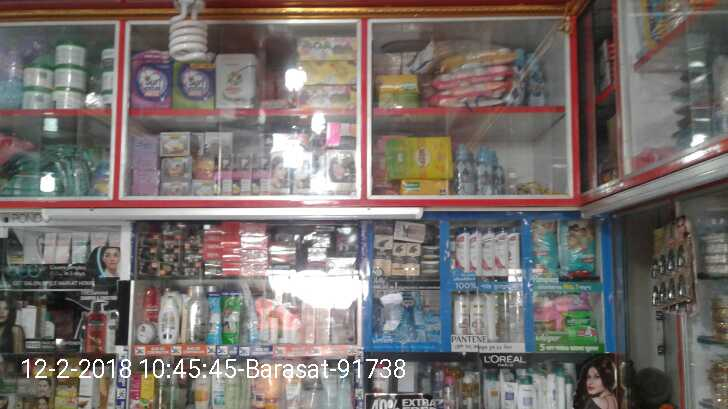venus: (390, 291, 422, 342), (422, 310, 442, 342)
